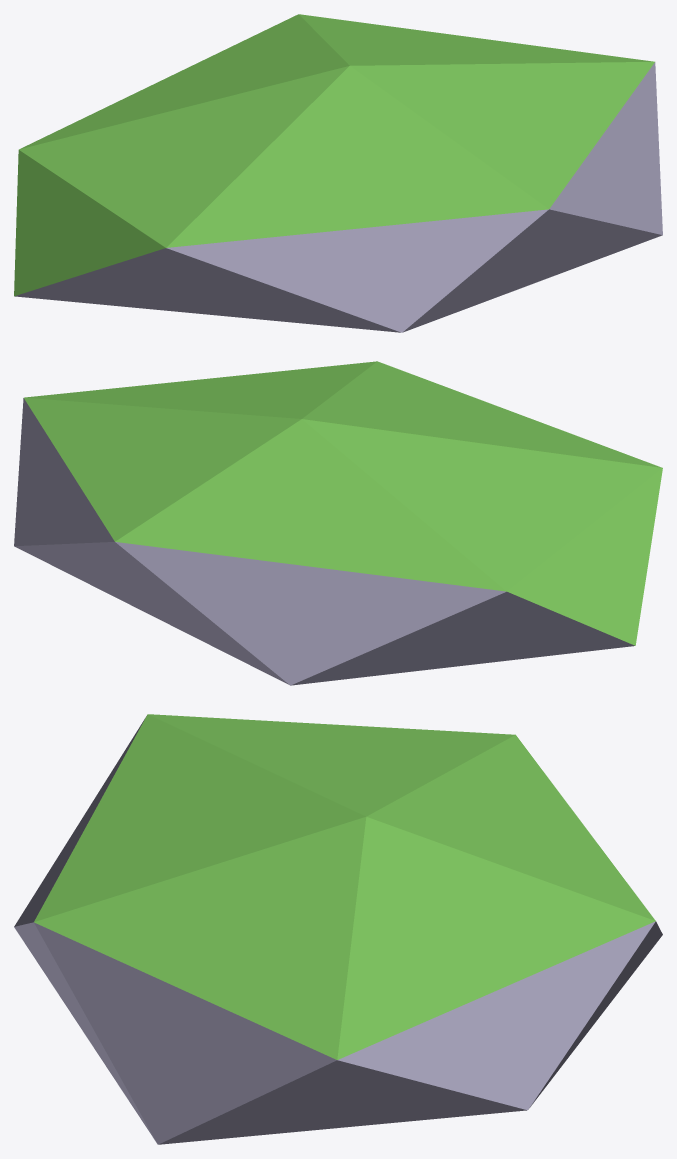
Rendered from rock_flat.glb.
3 renders of one model, top to bottom at view 1: azimuth 30°, elevation 25°; view 2: azimuth 150°, elevation 25°; view 3: azimuth 270°, elevation 25°, orthographic. The views are drawn at different scales.
Parts seen in each view (by area): view 1: rock_flat; view 2: rock_flat; view 3: rock_flat.
Boxes of the visible parts, x1=… form: rock_flat: x1=14, y1=14, x2=662, y2=332; rock_flat: x1=14, y1=361, x2=662, y2=685; rock_flat: x1=14, y1=714, x2=662, y2=1144.
Bounding box in the file's own units: 2.36 × 0.7655 × 1.75.
